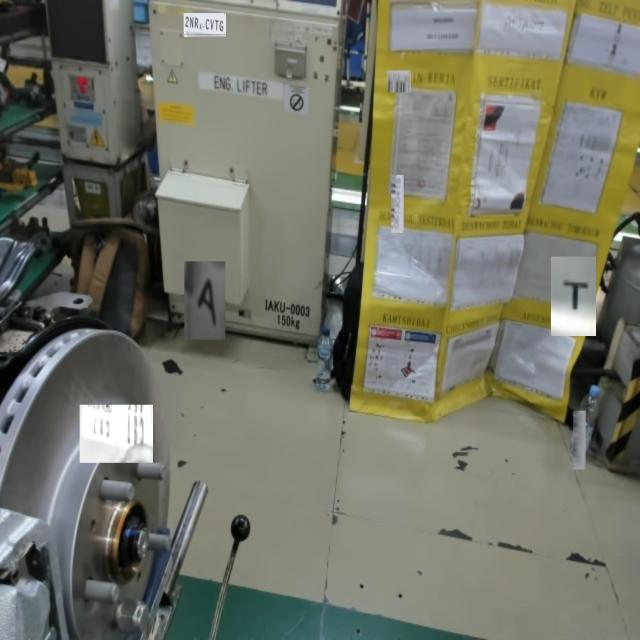Compressor-A: (188, 271, 220, 328)
Compressor-T: (37, 466, 161, 640), (558, 271, 591, 318)
Transaxele-C87-A27: (86, 412, 147, 450)
